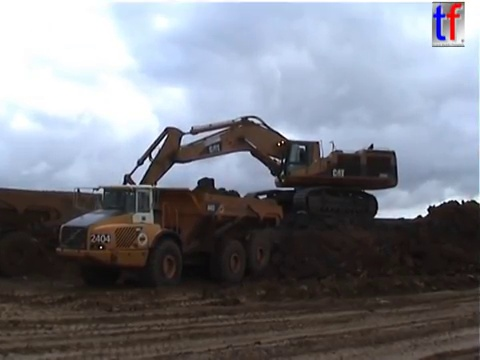excavator: (107, 112, 402, 235)
truck: (53, 175, 287, 289), (1, 185, 141, 281)
